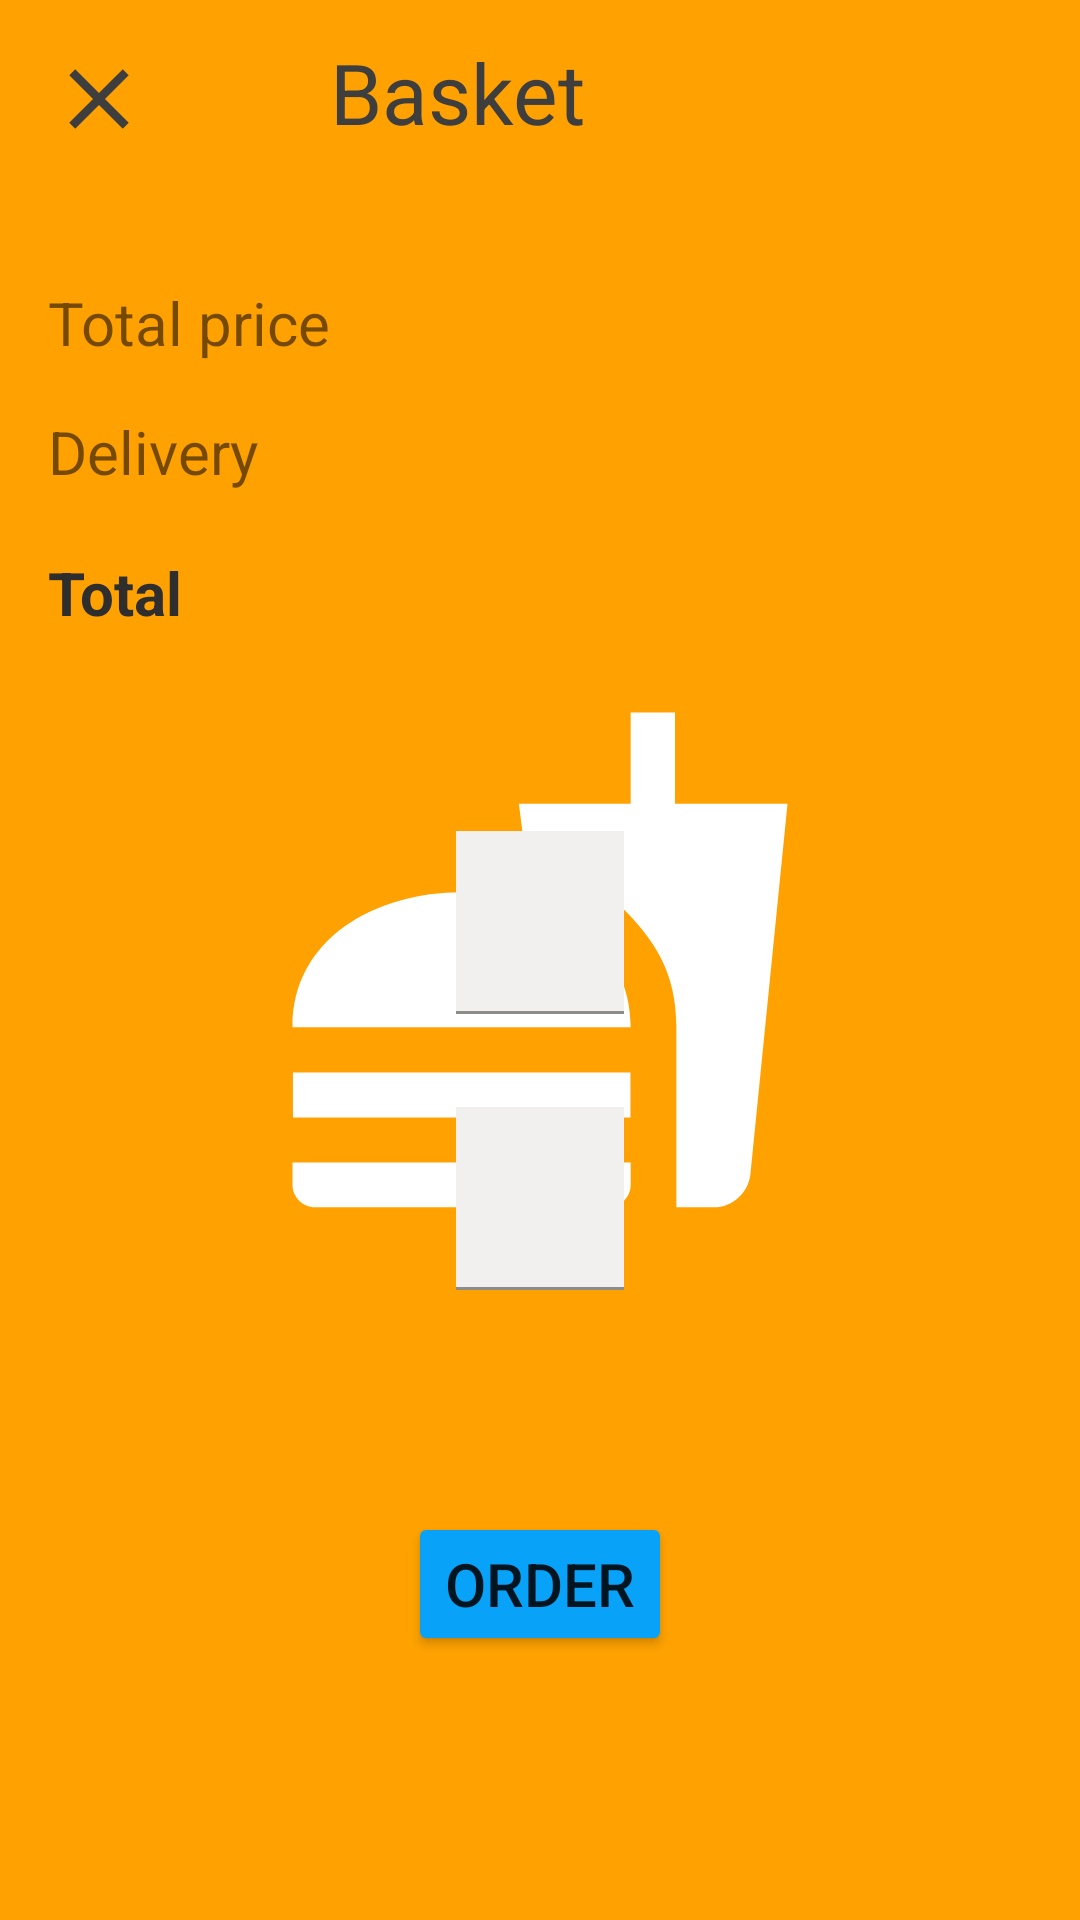

Locate icon controls on the screen. Image size 1080px x 1920px, boxes as (x1, y1, x2, y2).
close: (69, 69, 129, 129)
